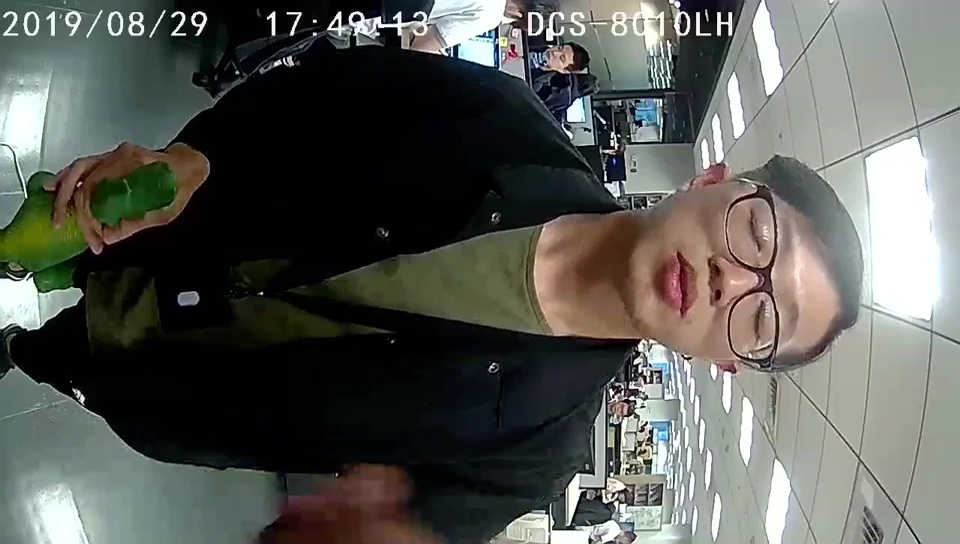rex: (4, 161, 179, 293)
